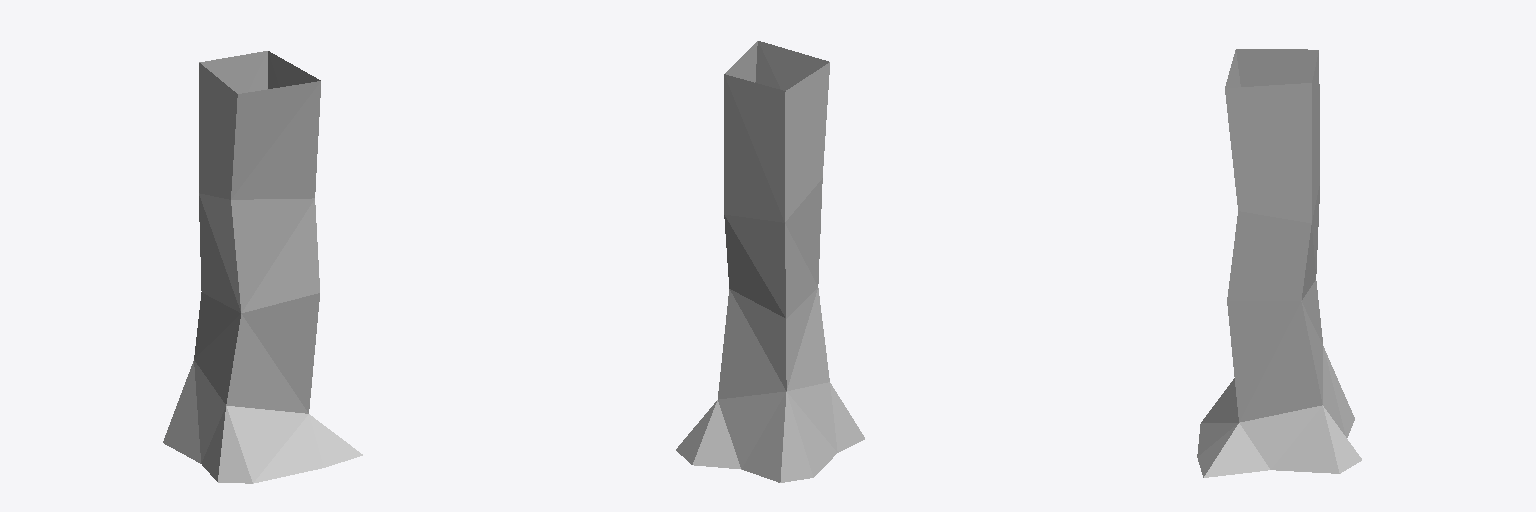
File: st_tree_trunk_3.obj
3 renders of one model, left to right at view 1: azimuth 30°, elevation 25°; view 2: azimuth 150°, elevation 25°; view 3: azimuth 270°, elevation 25°, orthographic.
Visible parts, largest first — view 1: TreeTrunk3_Plane; view 2: TreeTrunk3_Plane; view 3: TreeTrunk3_Plane.
Part boxes in pixels (x1,y1,x2,y2): TreeTrunk3_Plane: (163, 51, 362, 483); TreeTrunk3_Plane: (676, 41, 864, 482); TreeTrunk3_Plane: (1197, 49, 1361, 477).
Bounding box in the file's own units: 0.8206 × 2.12 × 0.846.